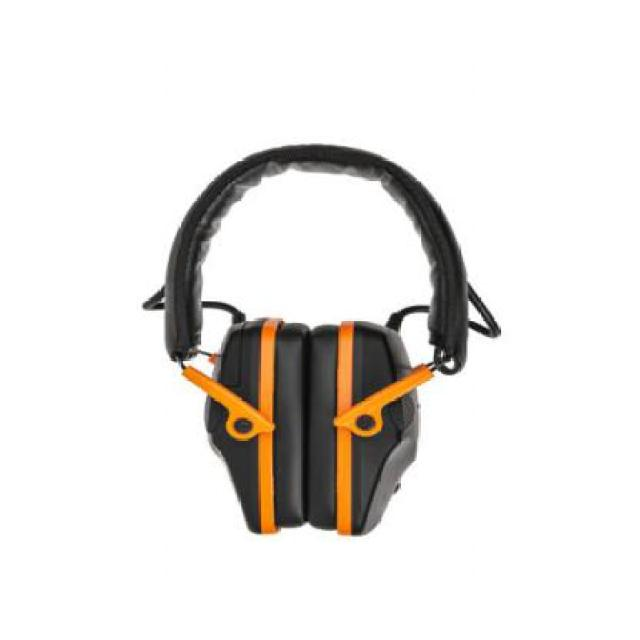Ear-protection: (153, 165, 483, 546)
